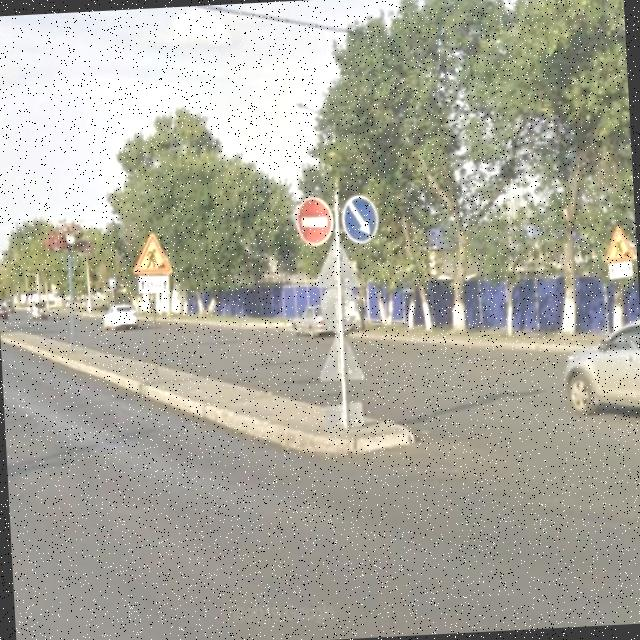Zakaz wjazdu: (292, 192, 336, 252)
